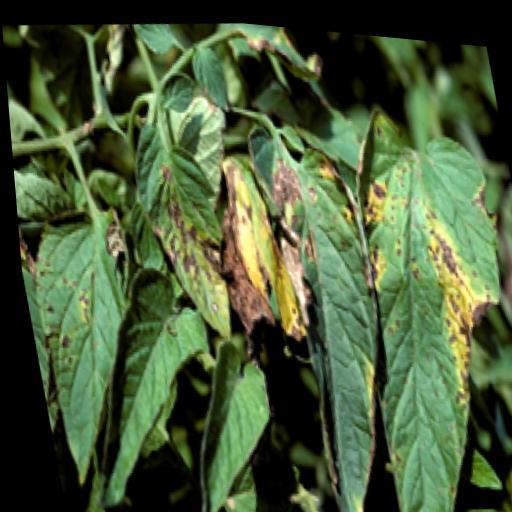Bacterial Spot: (320, 83, 512, 512), (251, 119, 411, 512), (12, 195, 163, 503), (119, 94, 235, 357)
